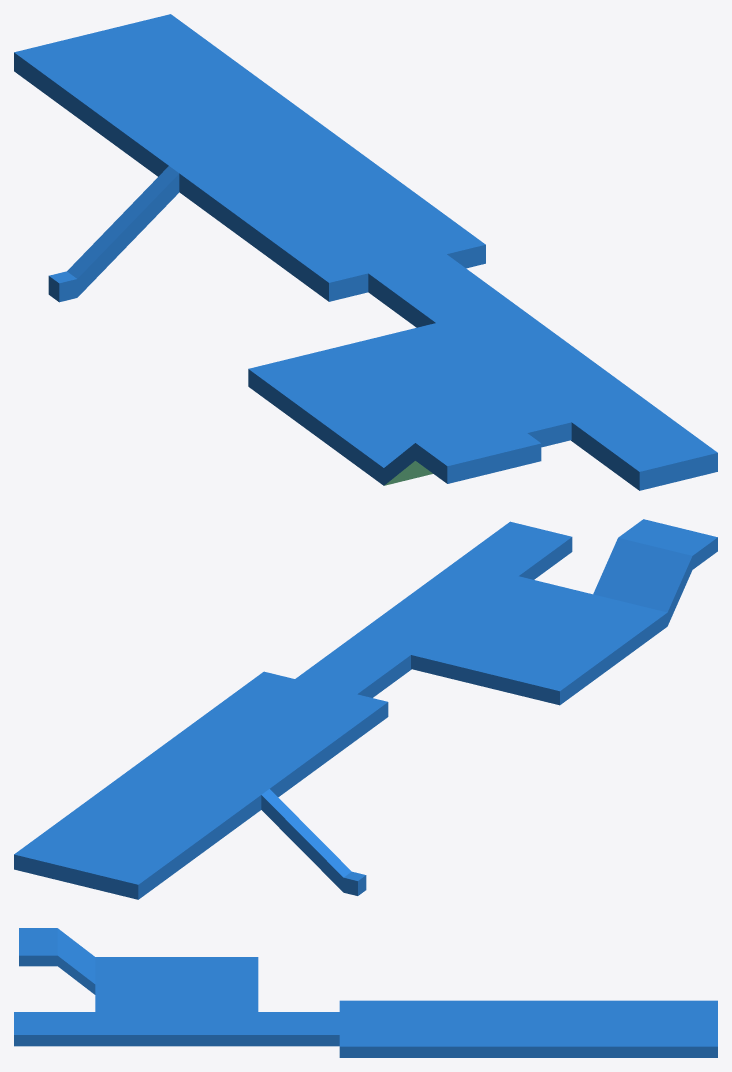
Rendered from levelExample.glb.
3 renders of one model, top to bottom at view 1: azimuth 30°, elevation 25°; view 2: azimuth 150°, elevation 25°; view 3: azimuth 270°, elevation 25°, orthographic. The views are drawn at different scales.
Visible parts, largest first — view 1: Cube; view 2: Cube; view 3: Cube.
Part boxes in pixels (x1,y1,x2,y2): Cube: [14, 14, 717, 490]; Cube: [14, 519, 717, 899]; Cube: [14, 928, 717, 1057].
Size of the model in its own units: 135 by 62.08 by 448.
